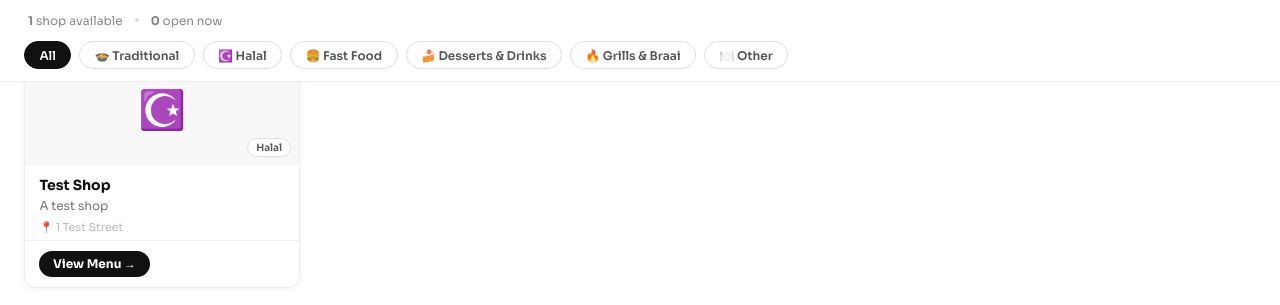
Test: Dashboard.js › Category Filter Pills › shows empty state when a category filter yields no results
Expected: the heading "Test Shop" is shown, 39,176 -> 110,194
Step 1. Click the button "🍲 Traditional" → [137, 55], box 79,41 -> 195,69
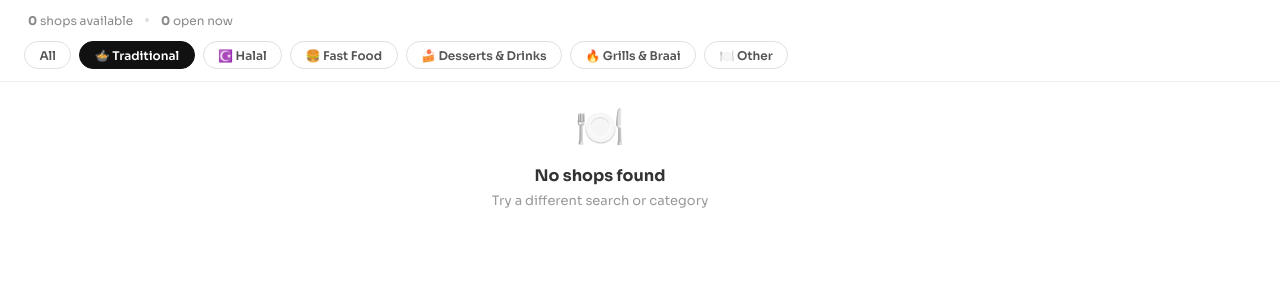
Result: the text "No shops found" is shown at 534,165 -> 666,186
